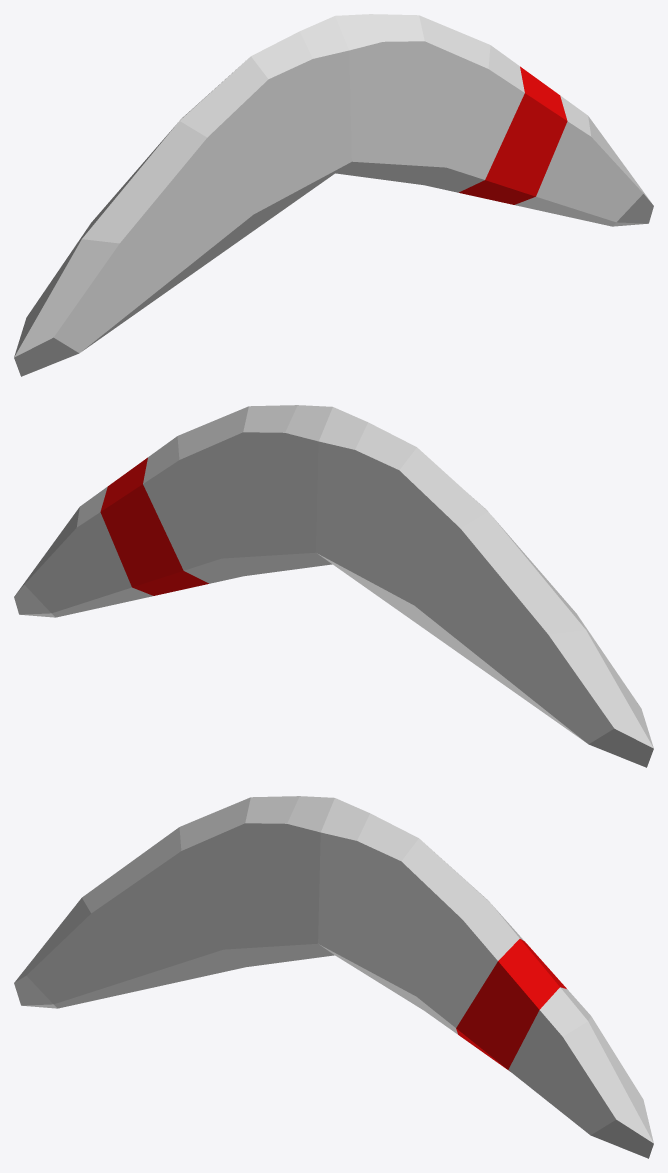
Rendered from Boomerang.glb.
The picture shows the model from 3 angles, top to bottom: view 1: azimuth 30°, elevation 25°; view 2: azimuth 150°, elevation 25°; view 3: azimuth 330°, elevation 25°; orthographic projection.
Visible parts, largest first — view 1: 立方体.003; view 2: 立方体.003; view 3: 立方体.003.
Part boxes in pixels (left/top/right/bottom): 立方体.003: left=14, top=14, right=653, bottom=376; 立方体.003: left=14, top=405, right=653, bottom=767; 立方体.003: left=14, top=796, right=653, bottom=1158.
Size of the model in its own units: 4.73 by 2.01 by 0.4331.
